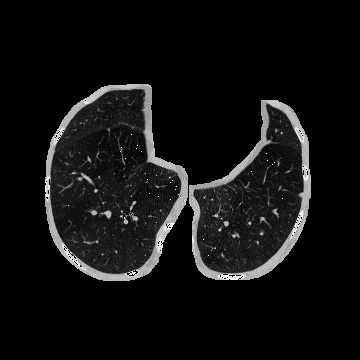PN: (298, 193, 302, 197)
